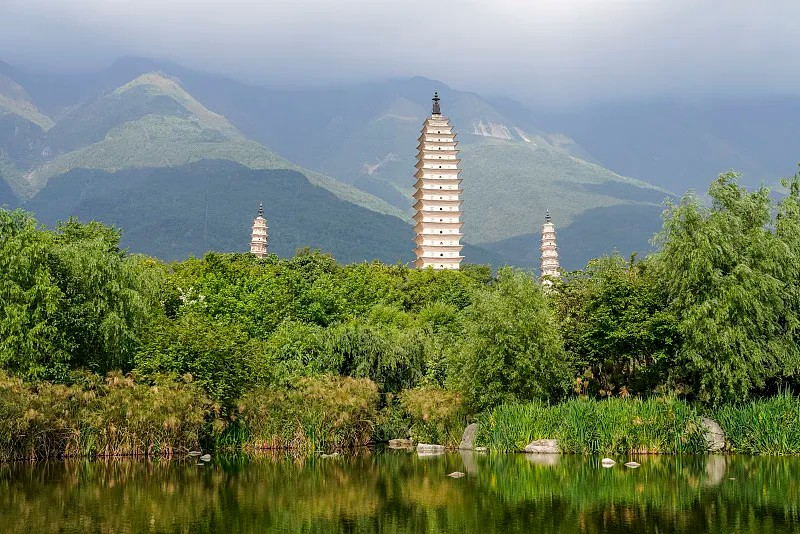ThreePagoda: (411, 91, 465, 270)
